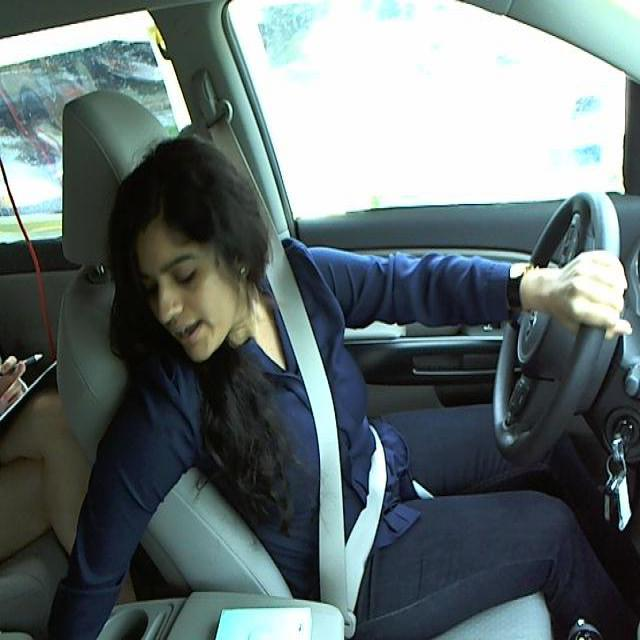seatbelt: (260, 269, 391, 608)
